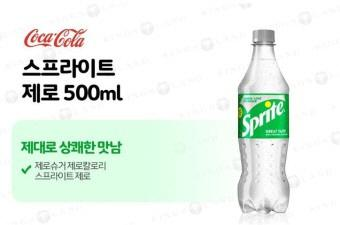sprite_zero: (229, 24, 295, 216)
